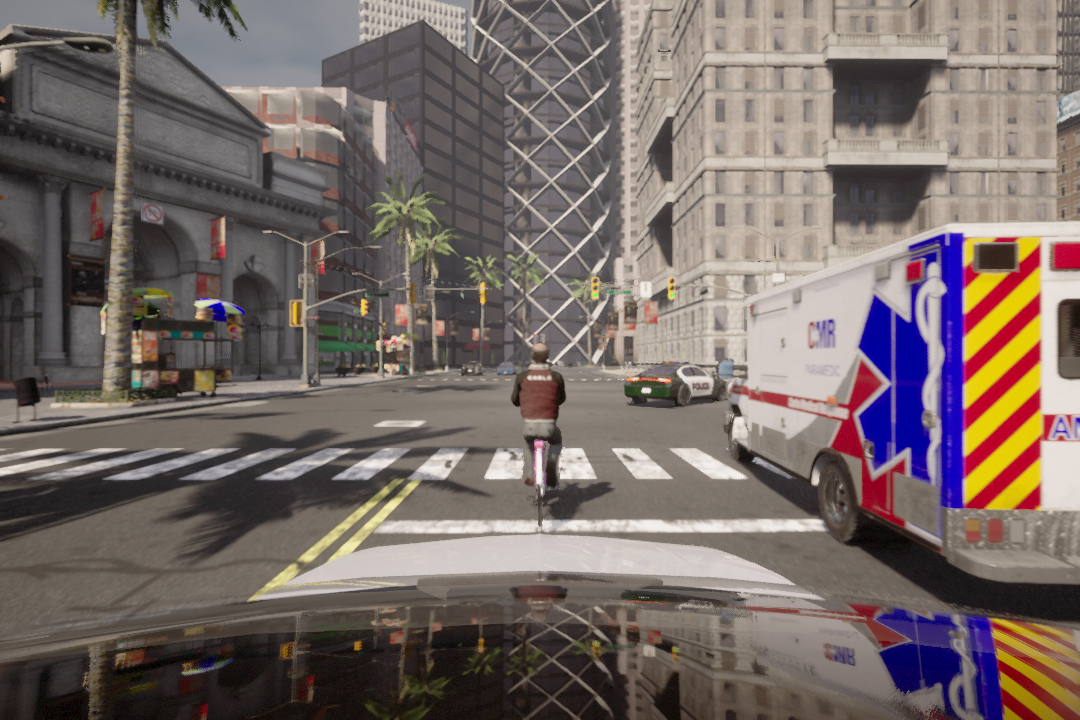TrafficLight: (666, 275, 678, 303), (589, 277, 602, 302)
TrafficSign: (141, 202, 164, 224)
walkside: (1, 442, 810, 489)
